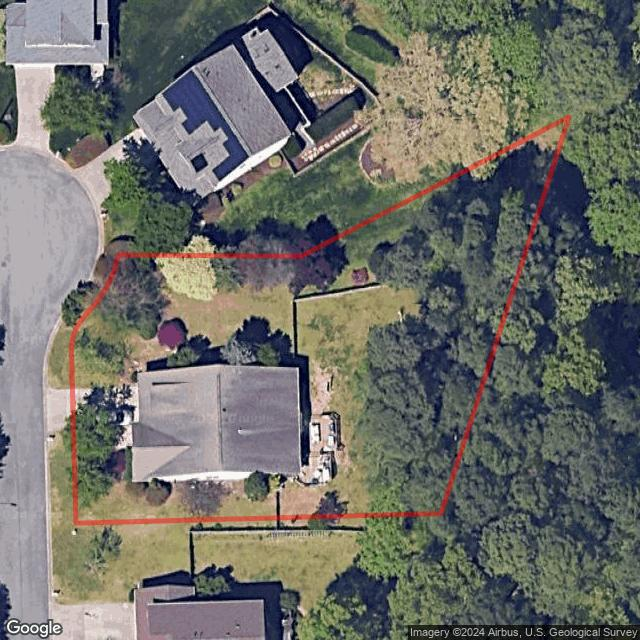Driveway: (72, 385, 141, 428)
Extra-Driveway: (44, 387, 72, 439)
Extra-Lawn: (45, 427, 365, 537), (45, 251, 119, 387)
House: (132, 364, 301, 485)
Lawn: (71, 118, 568, 525)
Other: (373, 207, 544, 517), (296, 363, 338, 488)
Sidewalk: (119, 425, 132, 447)
